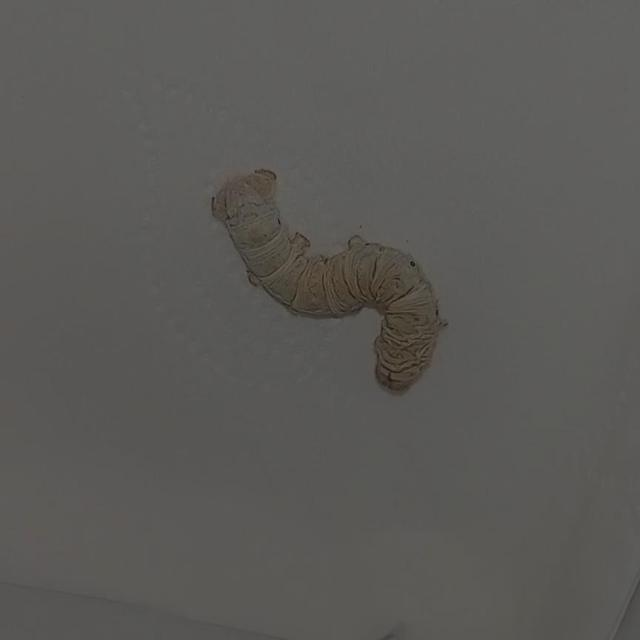Healthy: (198, 160, 448, 399)
